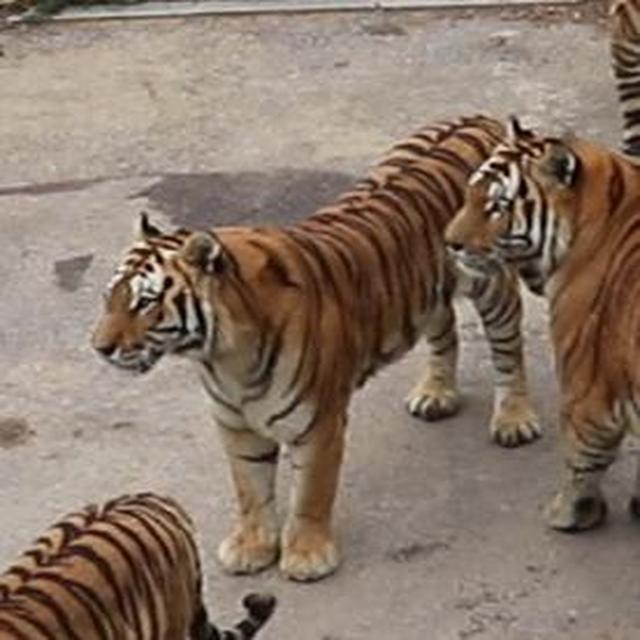tiger: (89, 130, 558, 588), (431, 117, 640, 553), (0, 476, 289, 640), (603, 0, 640, 159)
